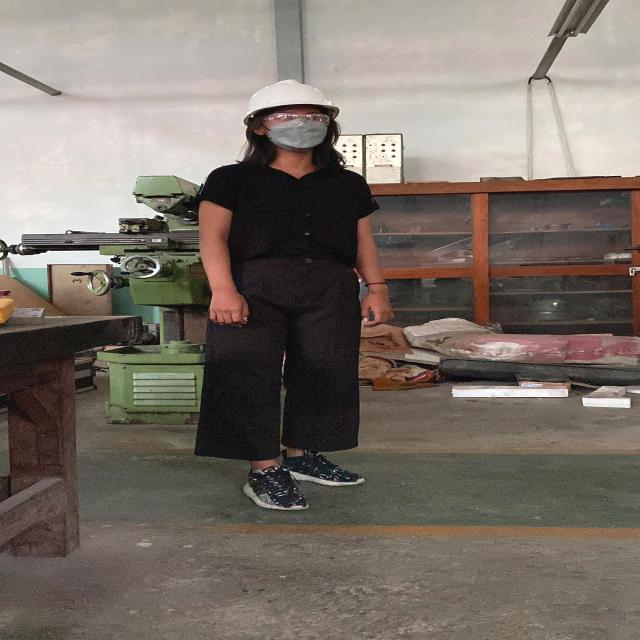face_mask: (254, 107, 341, 150)
glasses: (258, 111, 335, 126)
hand_noglove: (244, 75, 338, 113), (199, 287, 257, 330), (357, 291, 403, 329)
head_nohelmet: (172, 74, 420, 531)
shoes: (233, 464, 318, 514), (275, 450, 370, 488)
